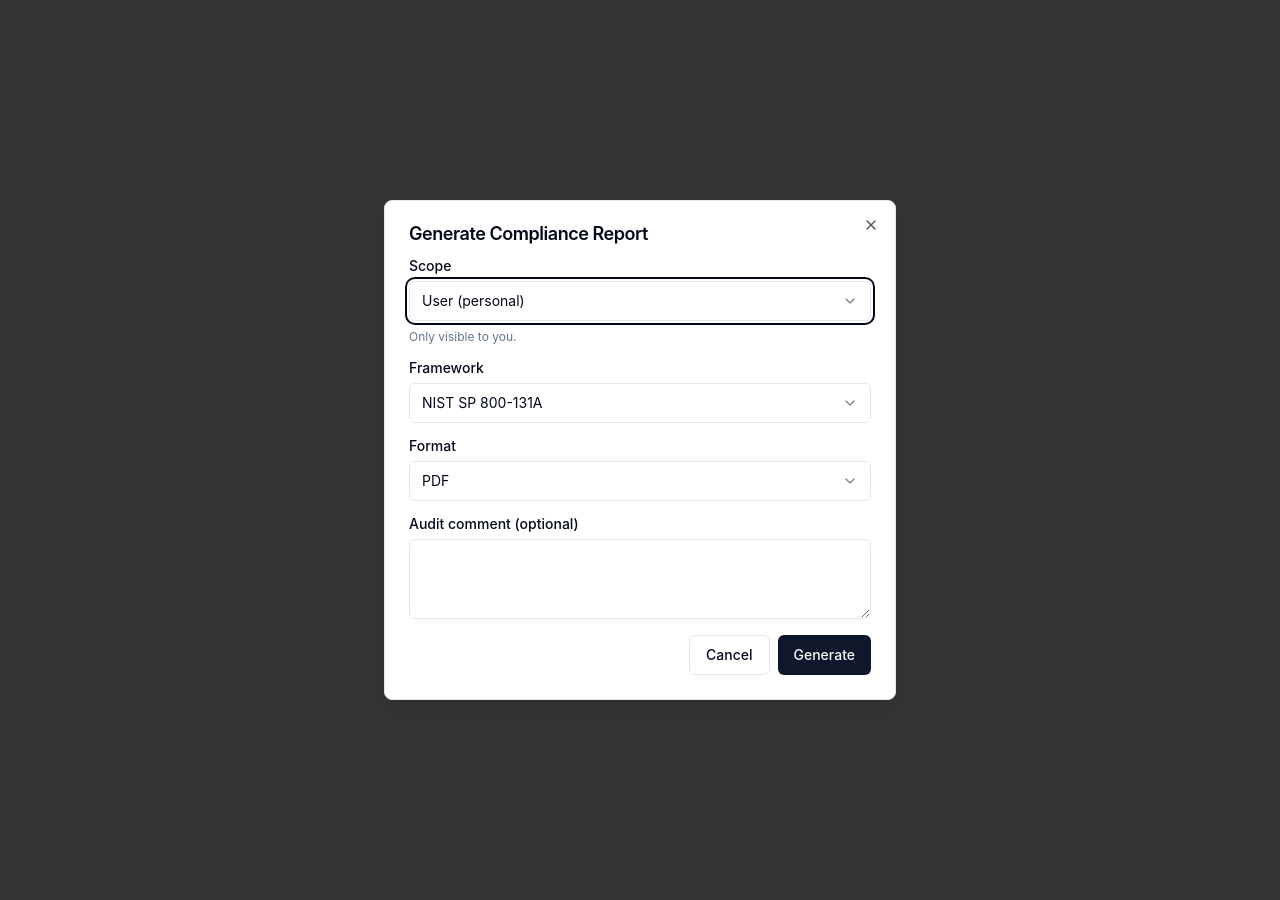
NewReportDialog › shows Global scope option when user has system:manage
Click the dropdown labelled "User (personal)" at (473, 300), box [409, 281, 871, 321]
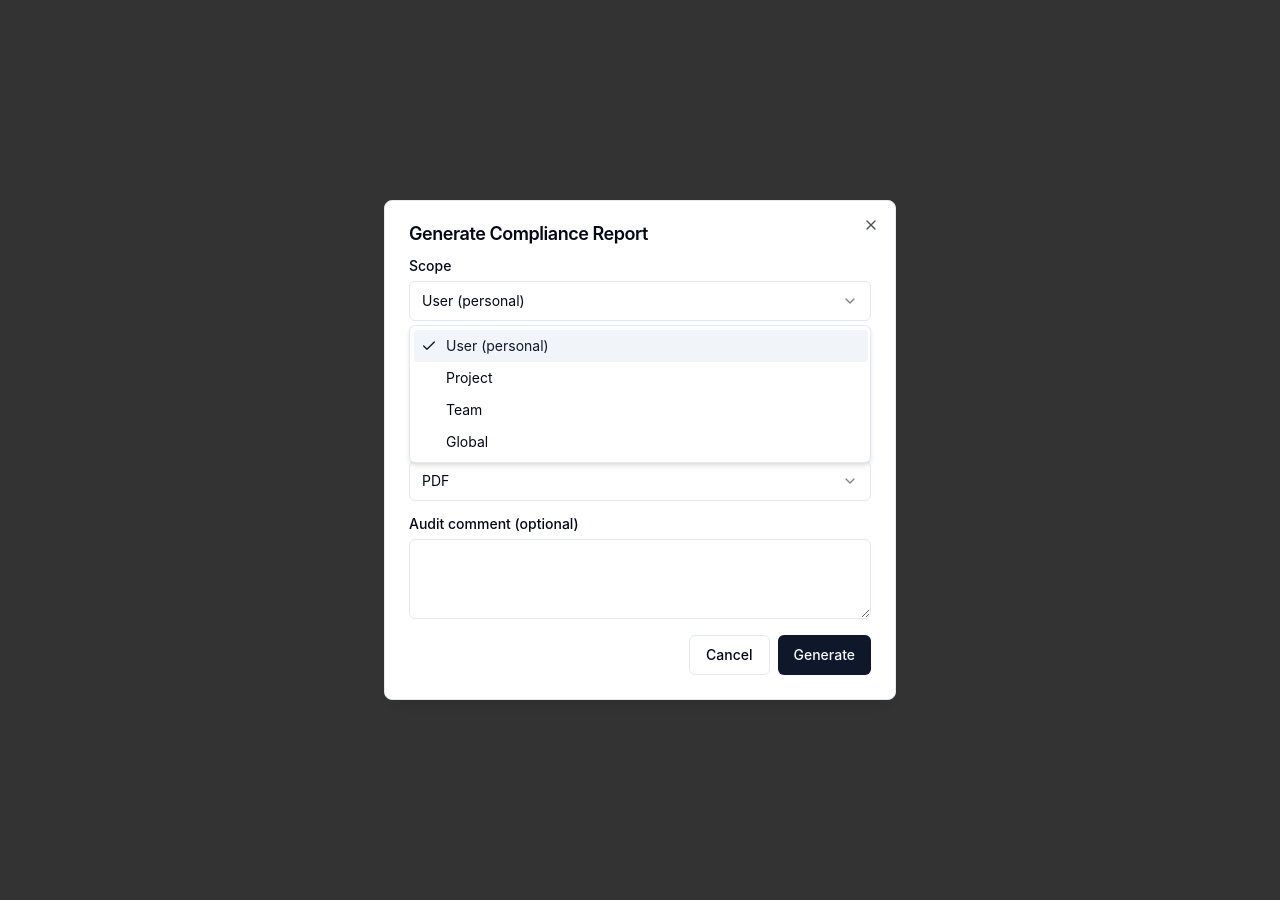
Now the text "Global" is shown, box [446, 432, 488, 452]
